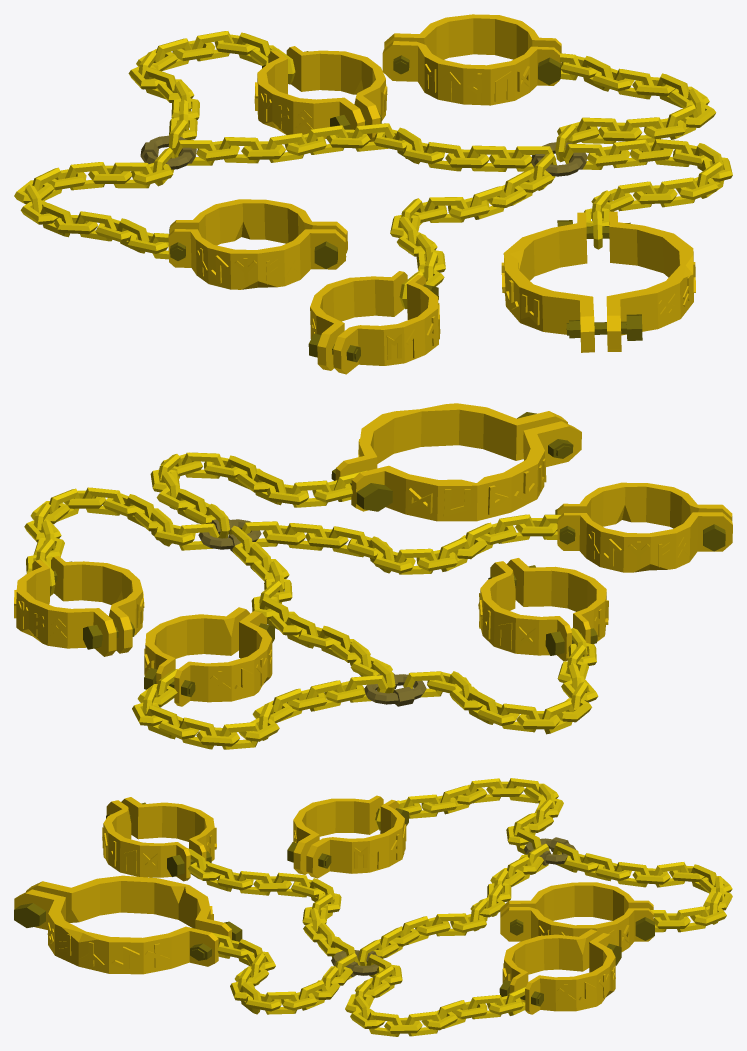
The model's file is Chain.fbx.
3 views of the same model, one above another, from view 1: azimuth 30°, elevation 25°; view 2: azimuth 150°, elevation 25°; view 3: azimuth 270°, elevation 25° (orthographic). The views are drawn at different scales.
Visible parts, largest first — view 1: Shackle, Chains, Screws, Links; view 2: Shackle, Chains, Screws, Links; view 3: Shackle, Chains, Screws, Links.
Boxes of the visible parts, <box> form: Shackle: <box>168,14,695,374</box>; Chains: <box>14,31,732,309</box>; Screws: <box>169,51,642,362</box>; Links: <box>140,135,587,176</box>; Shackle: <box>14,403,732,706</box>; Chains: <box>24,452,598,749</box>; Screws: <box>53,412,725,696</box>; Links: <box>198,518,426,706</box>; Shackle: <box>14,795,653,1014</box>; Chains: <box>187,778,732,1036</box>; Screws: <box>14,802,654,1006</box>; Links: <box>331,837,575,976</box>.
Bounding box in the file's own units: 10069 × 770 × 11820.
